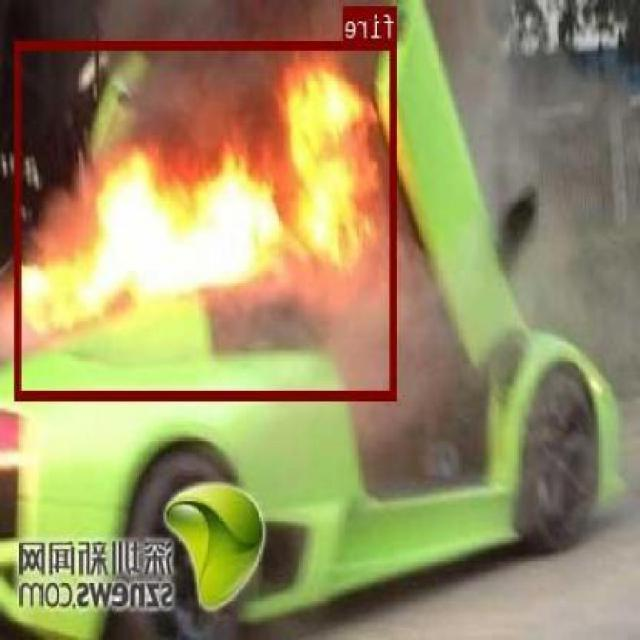Fire: (16, 39, 398, 398)
